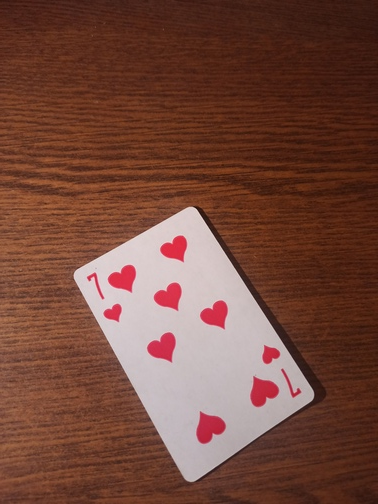sevenhearts: (71, 204, 318, 481)
